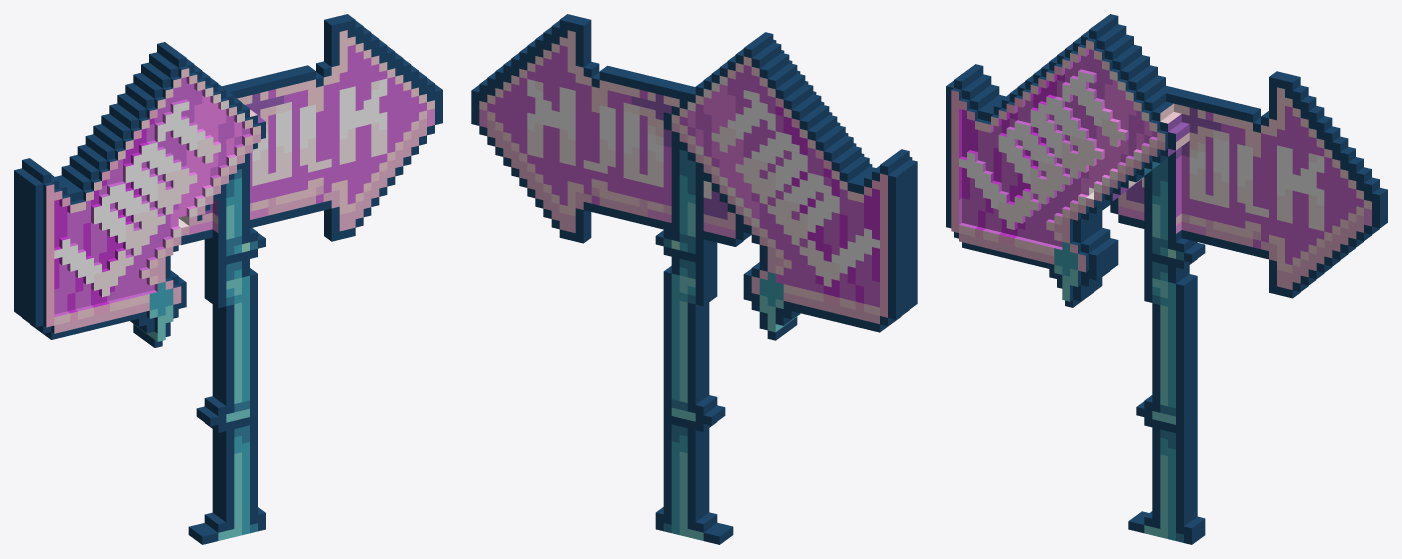
The model's file is loot_look.fbx.
3 views of the same model, side by side, from view 1: azimuth 30°, elevation 25°; view 2: azimuth 150°, elevation 25°; view 3: azimuth 330°, elevation 25° (orthographic).
Visible parts, largest first — view 1: 4.png; view 2: 4.png; view 3: 4.png.
Boxes of the visible parts, box(x1,y1,x2,y2) form: 4.png: box(14, 14, 442, 544); 4.png: box(471, 14, 917, 544); 4.png: box(946, 14, 1387, 544).
Size of the model in its own units: 1176 by 1332 by 118.
